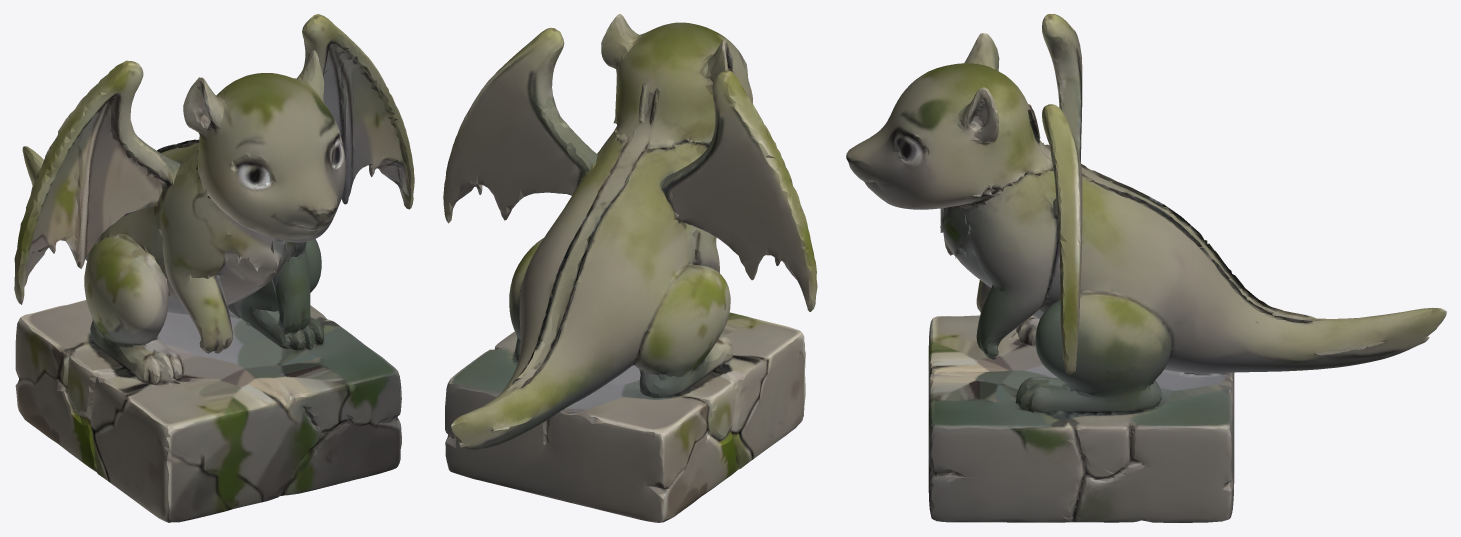
File: rodin_Lab_Gargoyle_raw.glb
The picture shows the model from 3 angles, left to right: view 1: azimuth 30°, elevation 25°; view 2: azimuth 150°, elevation 25°; view 3: azimuth 270°, elevation 25°; orthographic projection. The views are drawn at different scales.
Parts seen in each view (by area): view 1: model; view 2: model; view 3: model.
Part boxes in pixels (x1,y1,x2,y2): model: [14, 14, 414, 522]; model: [443, 14, 817, 522]; model: [846, 14, 1446, 522].
Size of the model in its own units: 1.42 by 1.42 by 1.89.
Materials: 1 (1 with a texture image).
